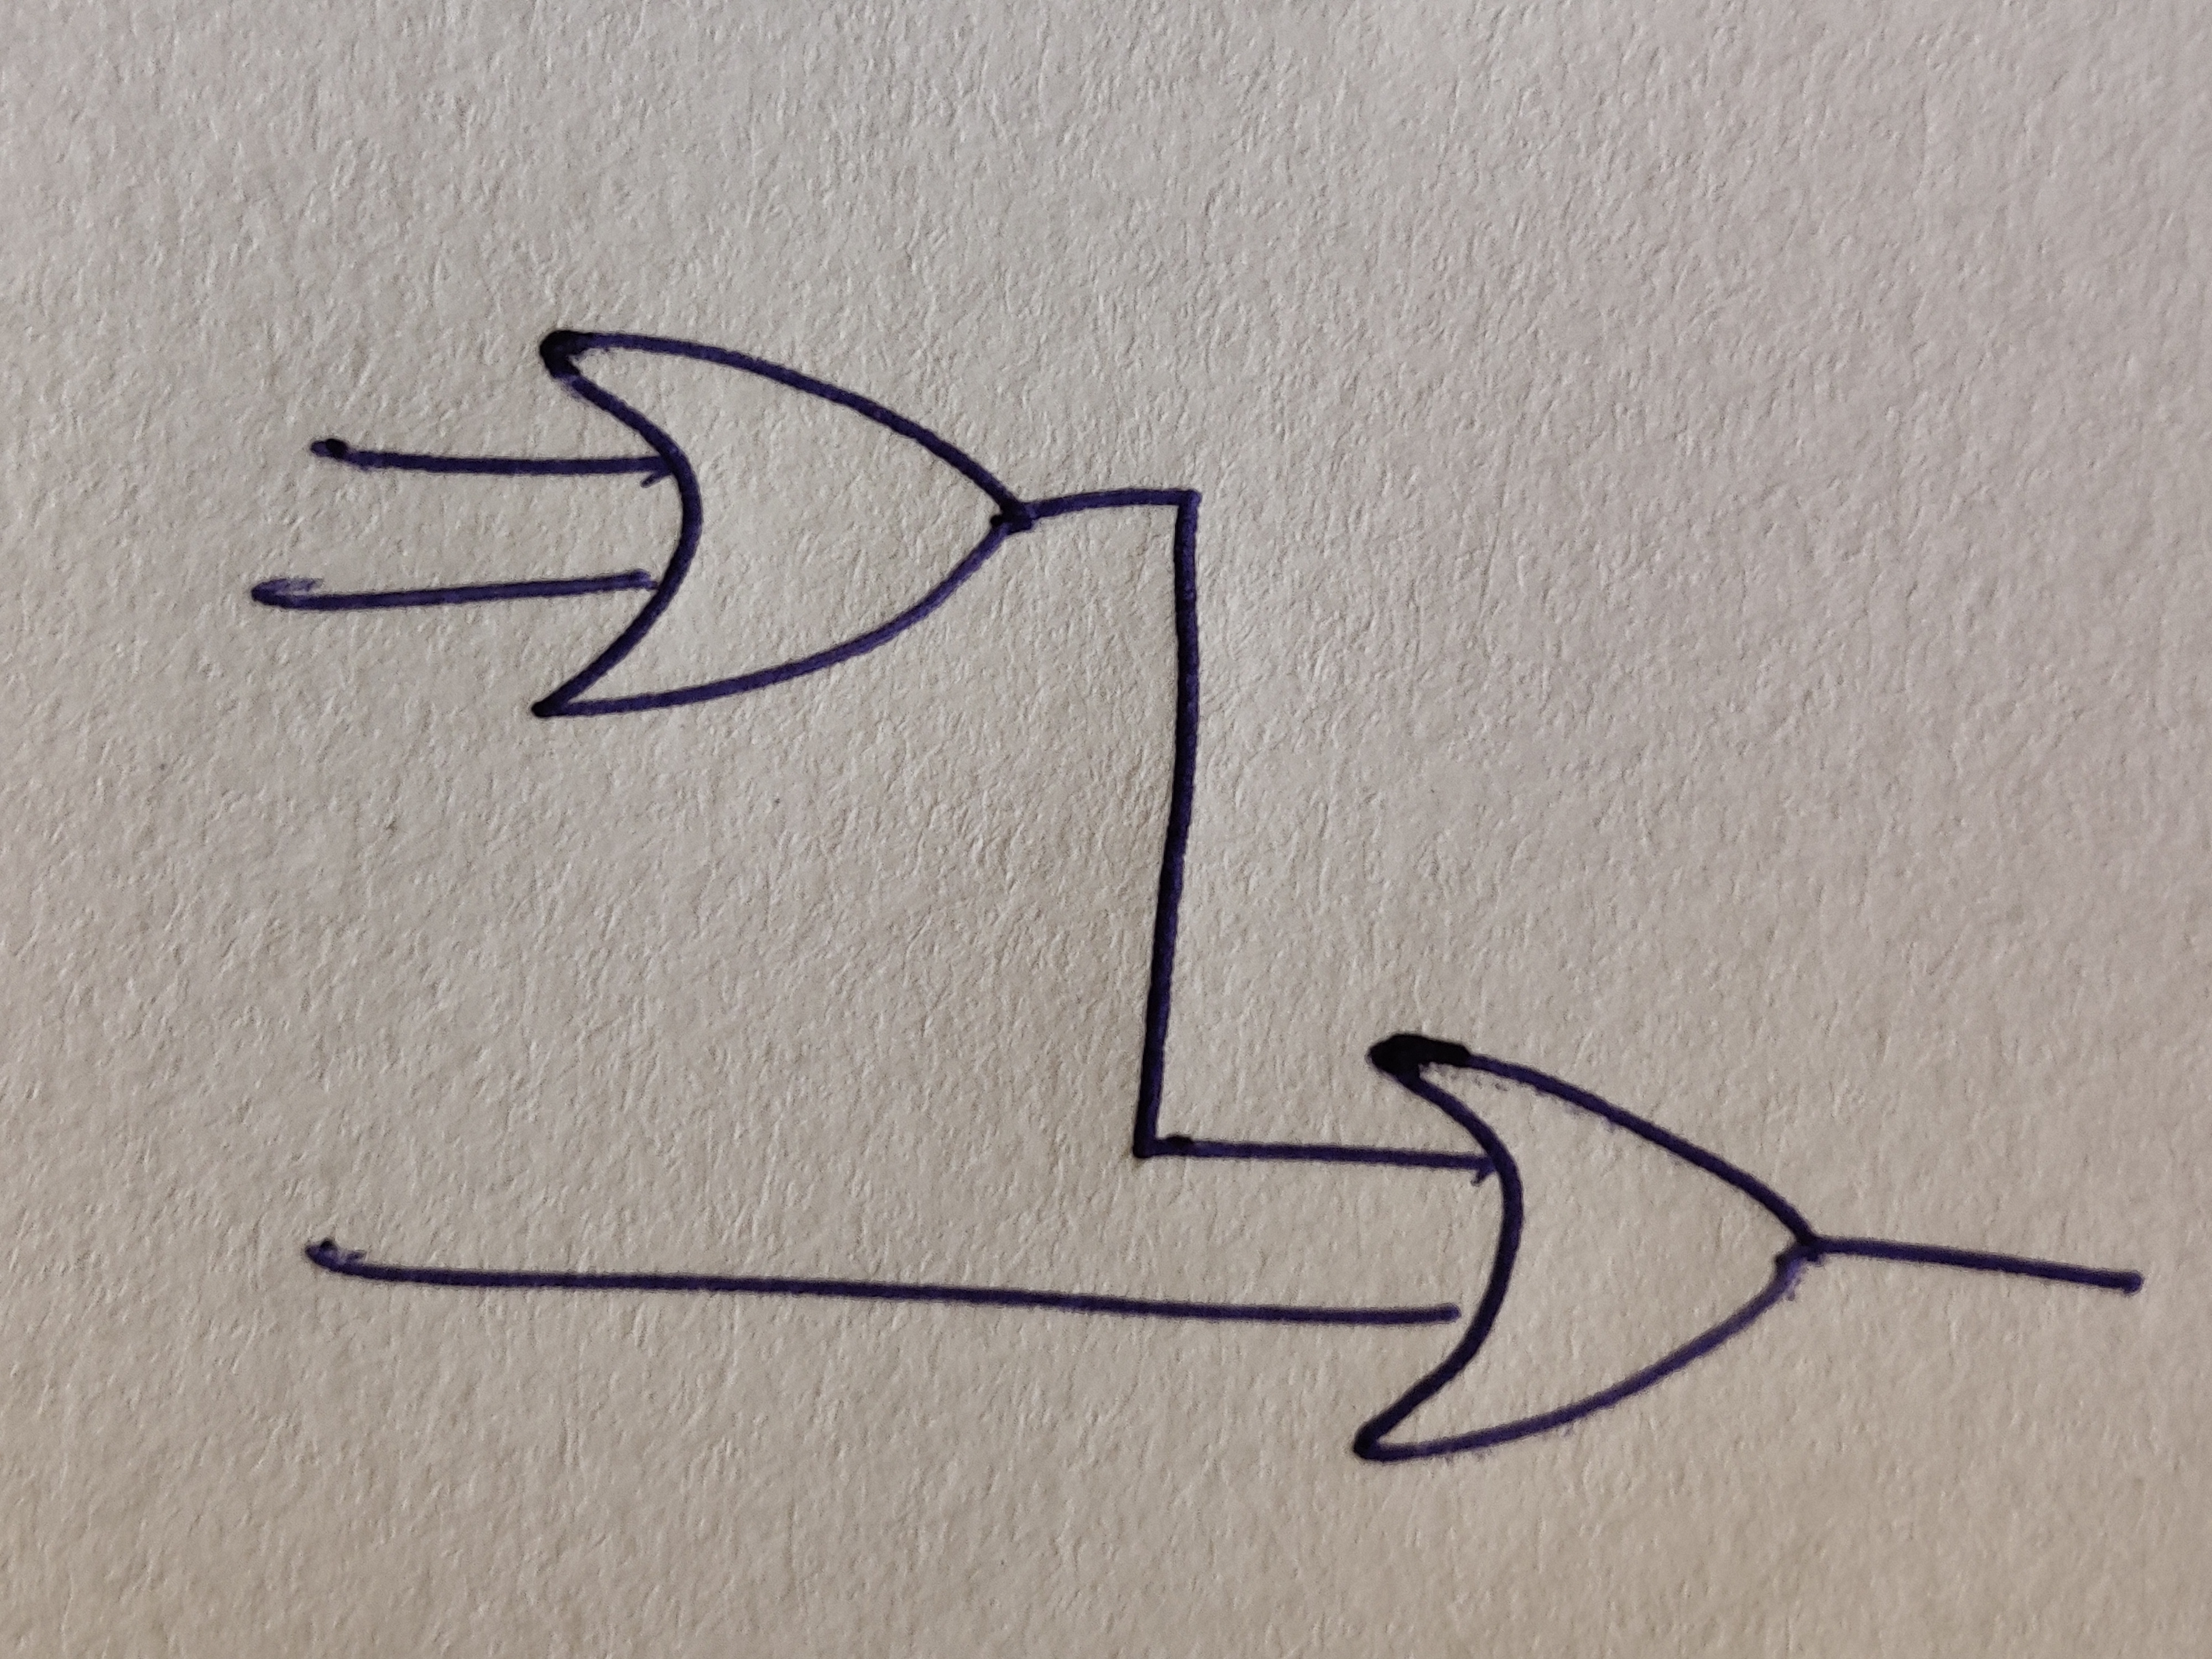or: (1352, 1032, 1822, 1464), (531, 331, 1033, 720)
